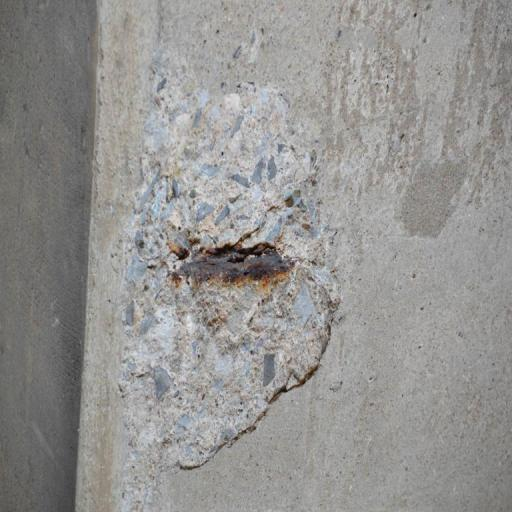spalling: (120, 42, 343, 471)
